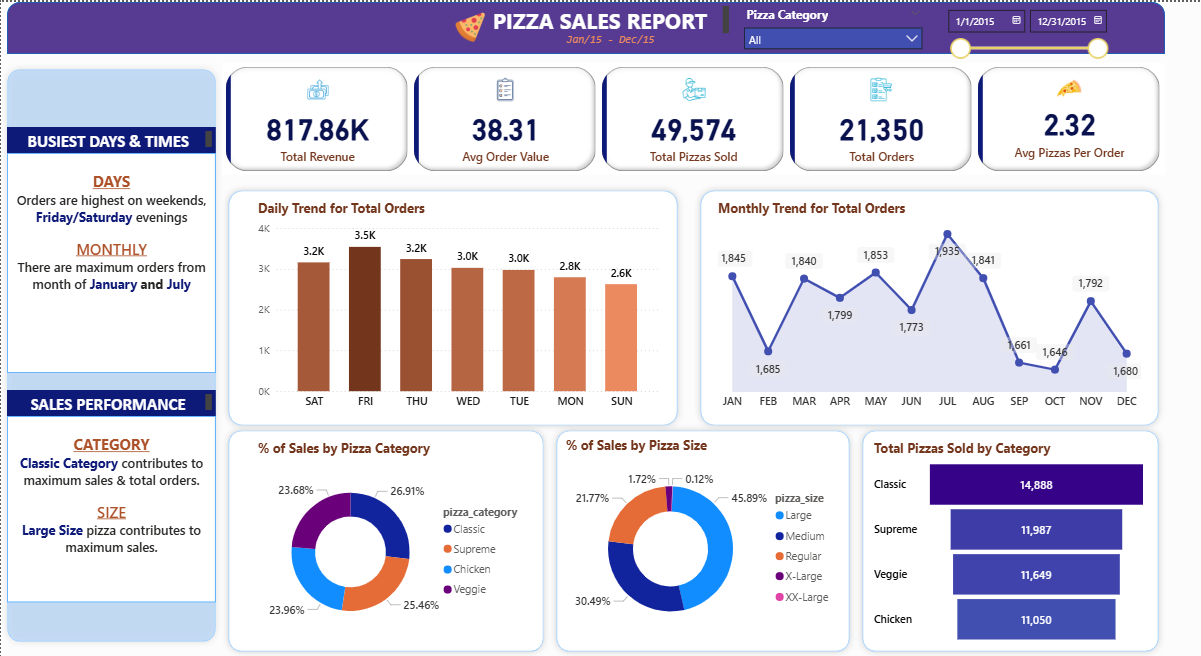

The page's visual inventory and layout, read from the dashboard file:
{"tool":"powerbi","page":{"name":"Home","canvas":[1500,820],"ordinal":0},"visuals":[{"type":"cardVisual","fields":{"Data":["pizza_sales.Total Revenue","pizza_sales.Total Pizzas Sold","pizza_sales.Total Orders","pizza_sales.Avg Pizzas Per Order"]},"box":[276.2,76.2,1178.8,140],"z":0},{"type":"shape","box":[7.5,0,1447.5,65],"z":1000},{"type":"textbox","box":[610,0,305,45],"z":2000},{"type":"textbox","box":[696.2,32.5,131.2,32.5],"z":3000},{"type":"image","box":[562.5,7.5,47.5,48.8],"z":4000},{"type":"shape","box":[276.2,227.5,577.5,310],"z":5000},{"type":"columnChart","title":"Daily Trend for Total Orders","fields":{"Category":["pizza_sales.Order Day"],"Y":["pizza_sales.Total Orders"]},"box":[316.2,246.2,511.2,271.2],"z":6000},{"type":"shape","box":[866.2,227.5,588.8,310],"z":7000},{"type":"areaChart","title":"Monthly Trend for Total Orders","fields":{"Category":["pizza_sales.Order Month"],"Y":["pizza_sales.Total Orders"]},"box":[891.2,246.2,538.8,271.2],"z":8000},{"type":"shape","box":[276.2,527.5,410,292.5],"z":9000},{"type":"shape","box":[686.2,527.5,382.5,292.5],"z":10000},{"type":"shape","box":[1068.8,527.5,386.2,292.5],"z":11000},{"type":"donutChart","title":"% of Sales by Pizza Category","fields":{"Category":["pizza_sales.pizza_category"],"Y":["pizza_sales.Total Revenue"]},"box":[316.2,546.2,351.2,261.2],"z":12000},{"type":"donutChart","title":"% of Sales by Pizza Size","fields":{"Category":["pizza_sales.pizza_size"],"Y":["pizza_sales.Total Revenue"]},"box":[701.2,542.5,351.2,261.2],"z":13000},{"type":"funnel","title":"Total Pizzas Sold by Category","fields":{"Y":["pizza_sales.Total Pizzas Sold"],"Category":["pizza_sales.pizza_category"]},"box":[1086.2,546.2,351.2,261.2],"z":14000},{"type":"shape","box":[0,76.2,276.2,731.2],"z":14001},{"type":"textbox","box":[7.5,156.2,261.2,32.5],"z":14002},{"type":"textbox","box":[7.5,188.8,261.2,275],"z":14003},{"type":"textbox","box":[7.5,485,261.2,32.5],"z":14004},{"type":"textbox","box":[7.5,517.5,261.2,232.5],"z":14005},{"type":"slicer","fields":{"Values":["pizza_sales.pizza_category"]},"box":[918.8,0,242.5,65],"z":14006},{"type":"slicer","fields":{"Values":["pizza_sales.order_date"]},"box":[1171.2,0,221.2,76.2],"z":14007}]}

Visuals, with their boxes in screenshot pixels (x1, y1, x2, y2), scaled from the page's 1500x820 canvas onto the 1201x656 screenshot:
cardVisual - pizza_sales.Total Revenue x pizza_sales.Total Pizzas Sold: <box>221,61,1165,173</box>
shape: <box>6,0,1165,52</box>
textbox: <box>488,0,733,36</box>
textbox: <box>557,26,662,52</box>
image: <box>450,6,488,45</box>
shape: <box>221,182,684,430</box>
"Daily Trend for Total Orders" columnChart: <box>253,197,662,414</box>
shape: <box>694,182,1165,430</box>
"Monthly Trend for Total Orders" areaChart: <box>714,197,1145,414</box>
shape: <box>221,422,549,655</box>
shape: <box>549,422,856,655</box>
shape: <box>856,422,1165,655</box>
"% of Sales by Pizza Category" donutChart: <box>253,437,534,646</box>
"% of Sales by Pizza Size" donutChart: <box>561,434,843,643</box>
"Total Pizzas Sold by Category" funnel: <box>870,437,1151,646</box>
shape: <box>0,61,221,646</box>
textbox: <box>6,125,215,151</box>
textbox: <box>6,151,215,371</box>
textbox: <box>6,388,215,414</box>
textbox: <box>6,414,215,600</box>
slicer - pizza_sales.pizza_category: <box>736,0,930,52</box>
slicer - pizza_sales.order_date: <box>938,0,1115,61</box>
